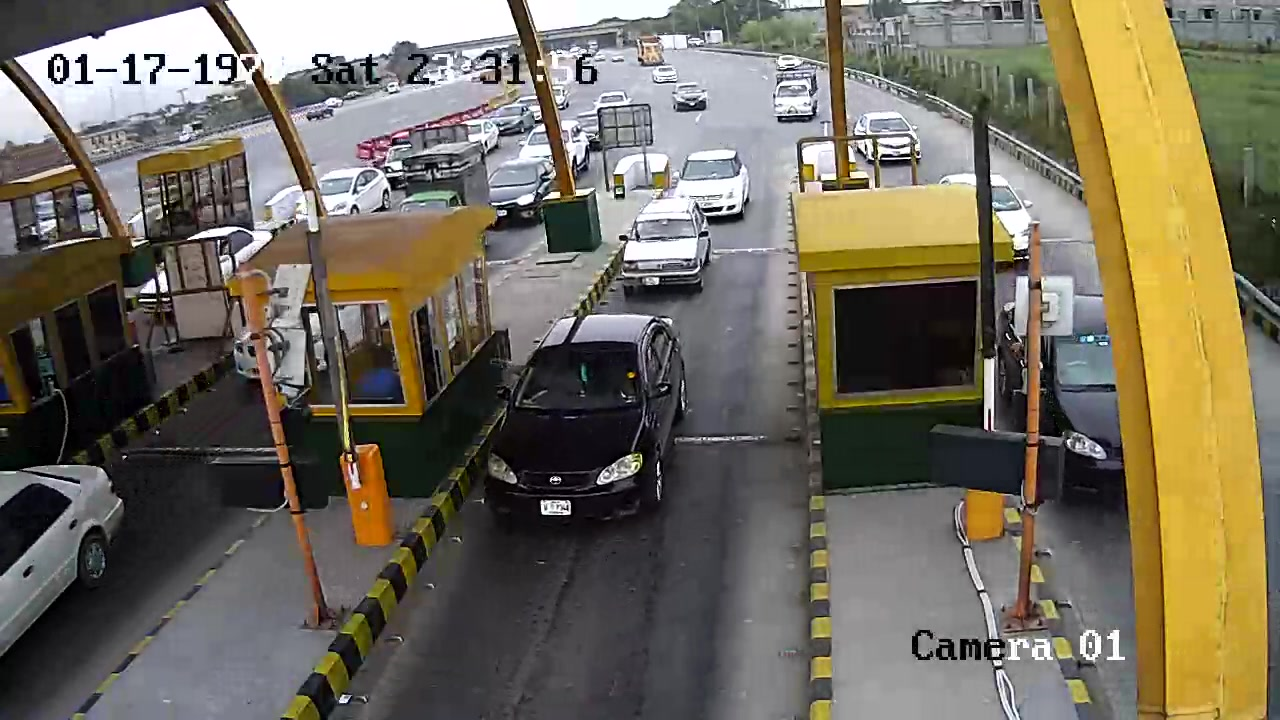F1: (490, 308, 688, 546)
